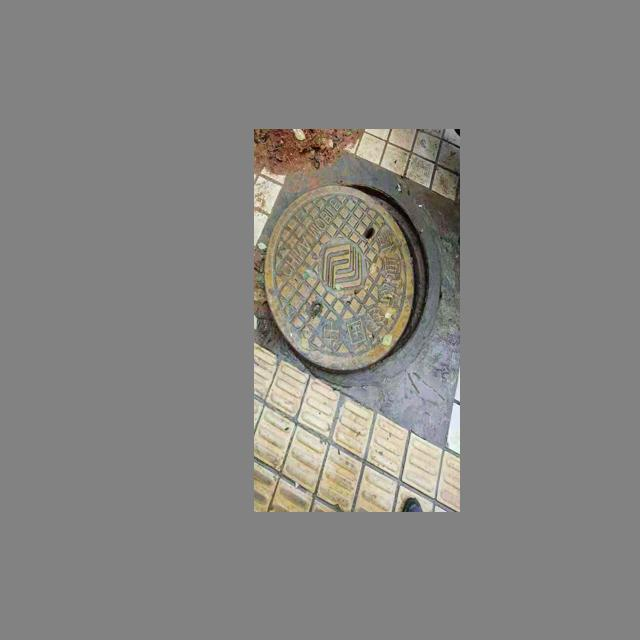uncovered: (266, 177, 442, 387)
